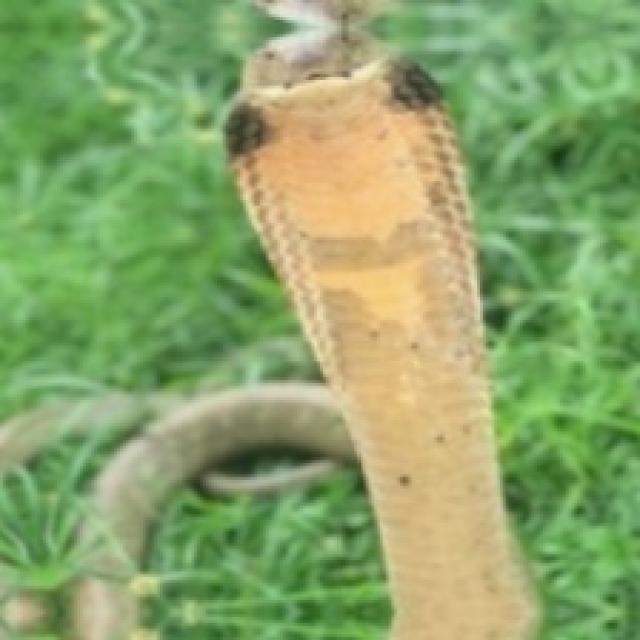king cobra: (231, 31, 534, 637), (77, 386, 346, 637), (0, 0, 117, 203), (0, 434, 106, 637), (3, 280, 137, 386)
